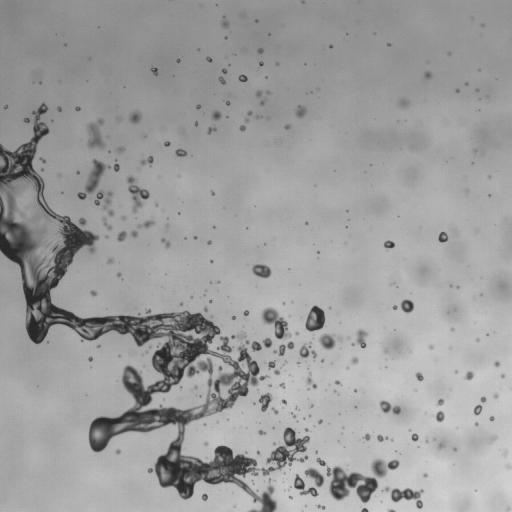droplet: (292, 467, 325, 496), (94, 190, 114, 216), (305, 305, 324, 331), (318, 333, 342, 349), (352, 329, 367, 348), (252, 264, 271, 278), (299, 343, 316, 358), (259, 393, 272, 411), (400, 299, 413, 313), (305, 373, 317, 388), (129, 111, 141, 123), (296, 105, 306, 117), (140, 156, 153, 165), (473, 404, 482, 415), (435, 411, 444, 422), (117, 231, 126, 241), (438, 232, 447, 242), (384, 240, 394, 249), (175, 148, 186, 156), (212, 111, 221, 120), (464, 371, 473, 380), (399, 99, 408, 107), (415, 372, 423, 381), (222, 17, 228, 28), (267, 361, 275, 369), (238, 74, 247, 81), (112, 162, 119, 171), (377, 435, 387, 441), (411, 433, 418, 441), (424, 72, 431, 79), (351, 357, 358, 364), (437, 398, 444, 405), (271, 407, 278, 414), (363, 433, 370, 440), (208, 127, 216, 133), (151, 68, 157, 75), (219, 77, 225, 84), (131, 230, 137, 237), (201, 493, 207, 500), (90, 290, 96, 296), (243, 310, 249, 316), (480, 396, 486, 402), (256, 90, 261, 97), (117, 147, 124, 152), (258, 430, 265, 435), (240, 125, 245, 131), (164, 141, 170, 146), (107, 258, 113, 263), (335, 380, 341, 385), (491, 435, 496, 441), (258, 48, 263, 53), (260, 100, 265, 105), (285, 124, 290, 129), (494, 361, 499, 366), (274, 369, 279, 374), (280, 383, 285, 388), (493, 393, 498, 398), (281, 399, 286, 404), (361, 508, 368, 511), (206, 57, 211, 61), (222, 68, 226, 73), (57, 106, 61, 111), (75, 106, 80, 110), (24, 118, 29, 122), (40, 158, 45, 162), (318, 419, 322, 424), (503, 451, 507, 456), (506, 464, 511, 468), (259, 61, 263, 65), (225, 101, 229, 105), (3, 105, 7, 109), (247, 111, 251, 115), (117, 272, 121, 276), (393, 305, 397, 309), (429, 345, 433, 349), (88, 357, 92, 361), (292, 413, 296, 417), (490, 416, 494, 420), (438, 444, 442, 448), (116, 449, 120, 453), (423, 473, 427, 477), (196, 105, 200, 108), (245, 118, 248, 122), (473, 149, 477, 152), (211, 191, 214, 195), (208, 240, 211, 244), (204, 307, 207, 311), (295, 331, 298, 335), (257, 451, 260, 455), (506, 508, 510, 511), (177, 59, 180, 62), (232, 316, 235, 319), (451, 328, 454, 331), (501, 374, 504, 377), (475, 422, 478, 425), (305, 428, 308, 431), (425, 439, 428, 442), (204, 442, 207, 445), (195, 122, 197, 126), (388, 43, 390, 46), (456, 89, 459, 91), (267, 91, 269, 94), (76, 171, 79, 173), (155, 203, 157, 206), (122, 216, 124, 219), (305, 222, 308, 224), (194, 236, 196, 239), (209, 300, 212, 302), (282, 302, 285, 304), (476, 339, 479, 341), (384, 349, 386, 352), (321, 359, 324, 361), (194, 386, 197, 388), (453, 448, 456, 450), (302, 0, 304, 2), (330, 45, 332, 47), (465, 82, 467, 84), (476, 89, 478, 91), (210, 260, 212, 262), (457, 286, 459, 288), (146, 351, 148, 353), (284, 361, 286, 363), (354, 389, 356, 391)
ligament: (0, 103, 307, 511), (316, 458, 399, 503), (77, 159, 110, 199), (261, 307, 292, 339), (383, 486, 423, 508), (126, 175, 149, 213), (87, 119, 104, 148), (273, 341, 294, 355), (379, 400, 400, 414), (138, 220, 155, 228), (102, 217, 111, 230), (161, 238, 170, 248), (317, 504, 325, 508), (387, 509, 395, 511)
